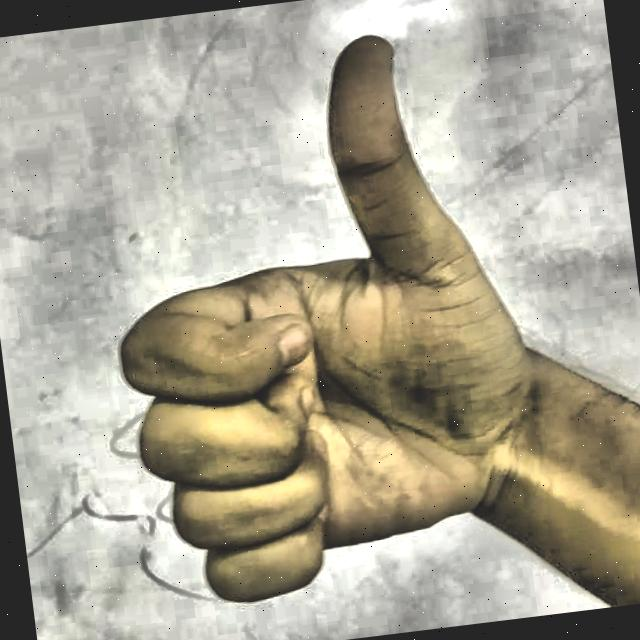Do: (24, 0, 567, 640)
